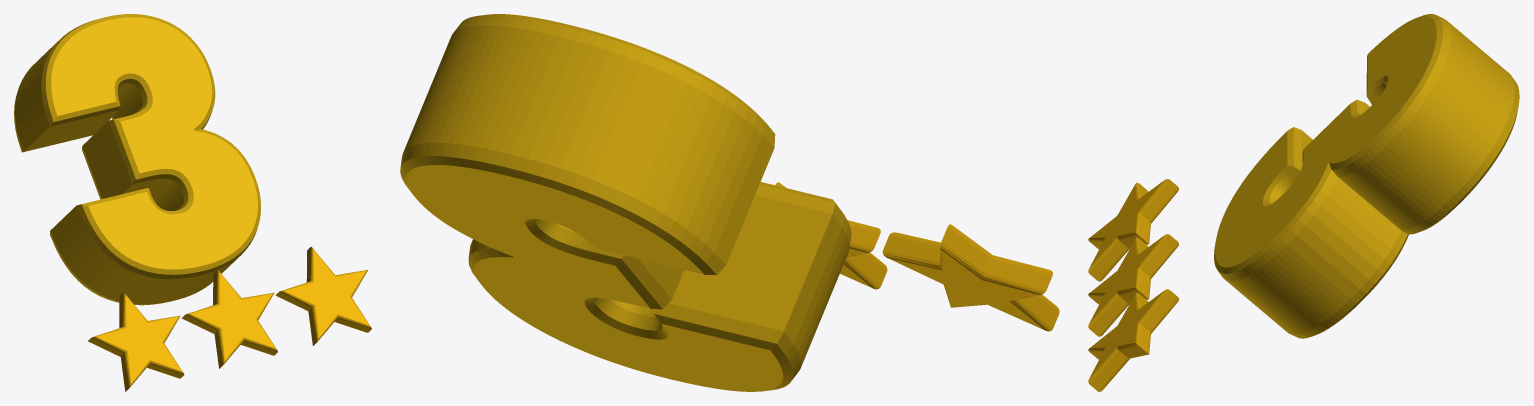
The model's file is num_3.glb.
The picture shows the model from 3 angles, left to right: view 1: azimuth 30°, elevation 25°; view 2: azimuth 150°, elevation 25°; view 3: azimuth 270°, elevation 25°; orthographic projection. The views are drawn at different scales.
Bounding box in the file's own units: 1.24 × 1.03 × 1.39.
